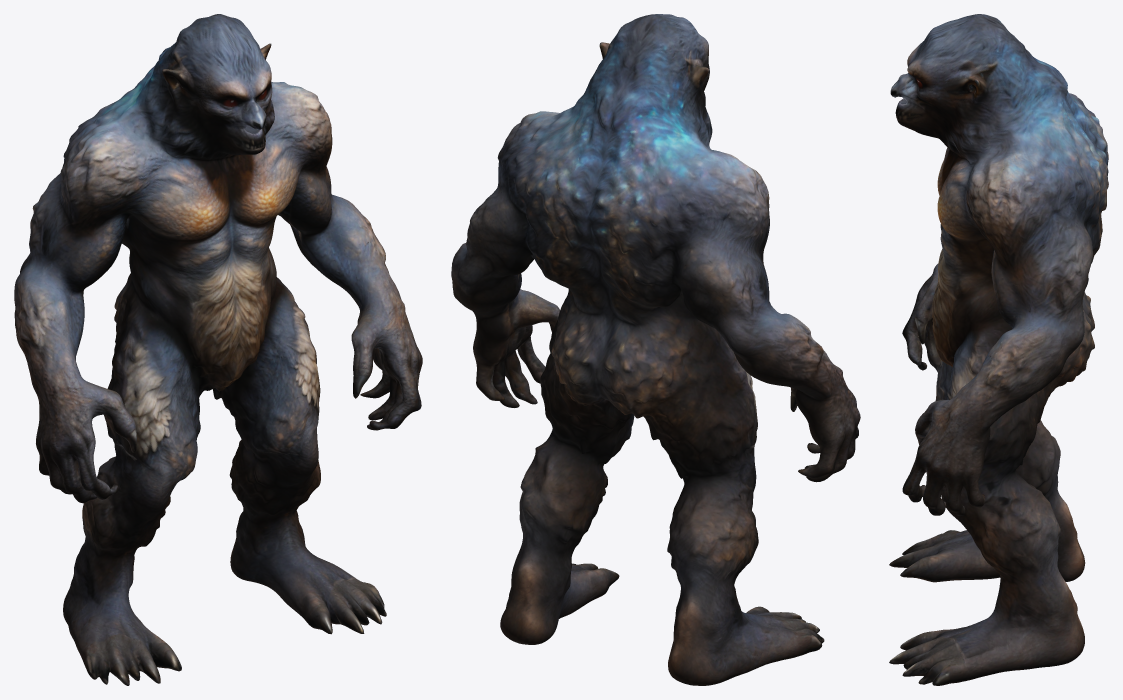
Rendered from Create_a_hyper_realis_0209045850_texture.fbx.
3 renders of one model, left to right at view 1: azimuth 30°, elevation 25°; view 2: azimuth 150°, elevation 25°; view 3: azimuth 270°, elevation 25°, orthographic. The views are drawn at different scales.
Visible parts, largest first — view 1: Mesh1_Mesh1.006; view 2: Mesh1_Mesh1.006; view 3: Mesh1_Mesh1.006.
Part boxes in pixels (x1=…): Mesh1_Mesh1.006: x1=14, y1=14, x2=422, y2=685; Mesh1_Mesh1.006: x1=451, y1=14, x2=860, y2=685; Mesh1_Mesh1.006: x1=889, y1=14, x2=1108, y2=685.
Size of the model in its own units: 159 by 250 by 82.59.
1 material, 1 textured.
